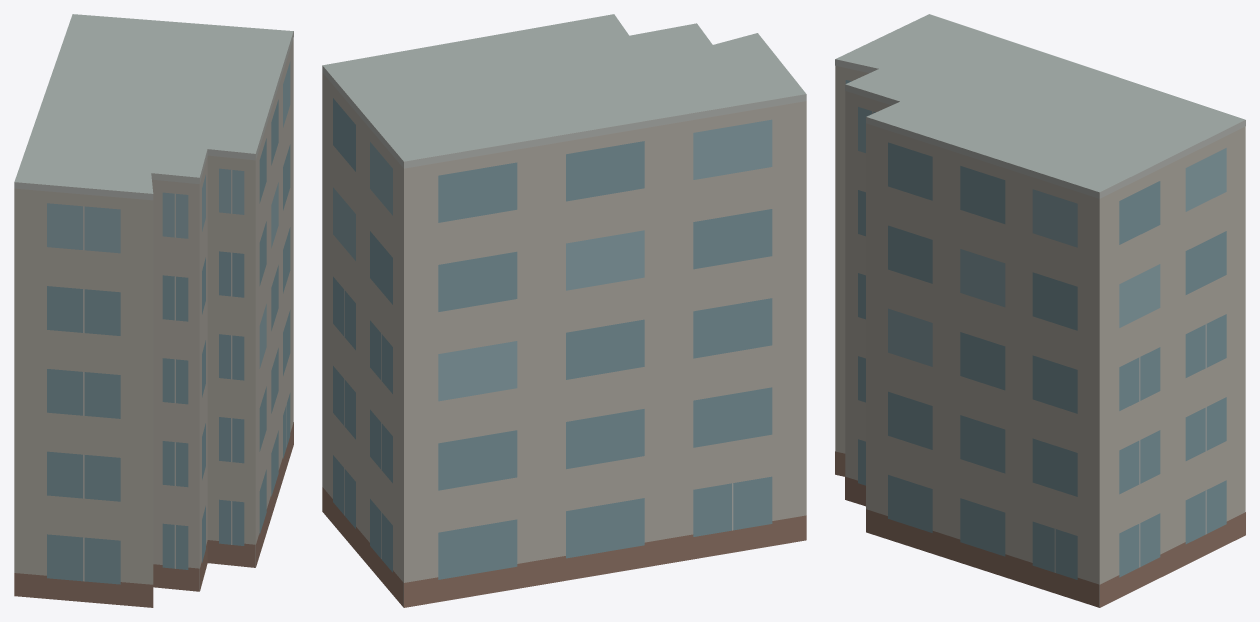
Rendered from survey-upis-33018153.glb.
3 views of the same model, side by side, from view 1: azimuth 30°, elevation 25°; view 2: azimuth 150°, elevation 25°; view 3: azimuth 270°, elevation 25° (orthographic). The views are drawn at different scales.
Visible parts, largest first — view 1: survey-upis-33018153.tmp; view 2: survey-upis-33018153.tmp; view 3: survey-upis-33018153.tmp.
Boxes of the visible parts, x1,y1,x2,y2 form: survey-upis-33018153.tmp: (14,14,293,607); survey-upis-33018153.tmp: (322,14,806,607); survey-upis-33018153.tmp: (835,14,1245,607).
Size of the model in its own units: 14.37 by 15.6 by 13.98.
